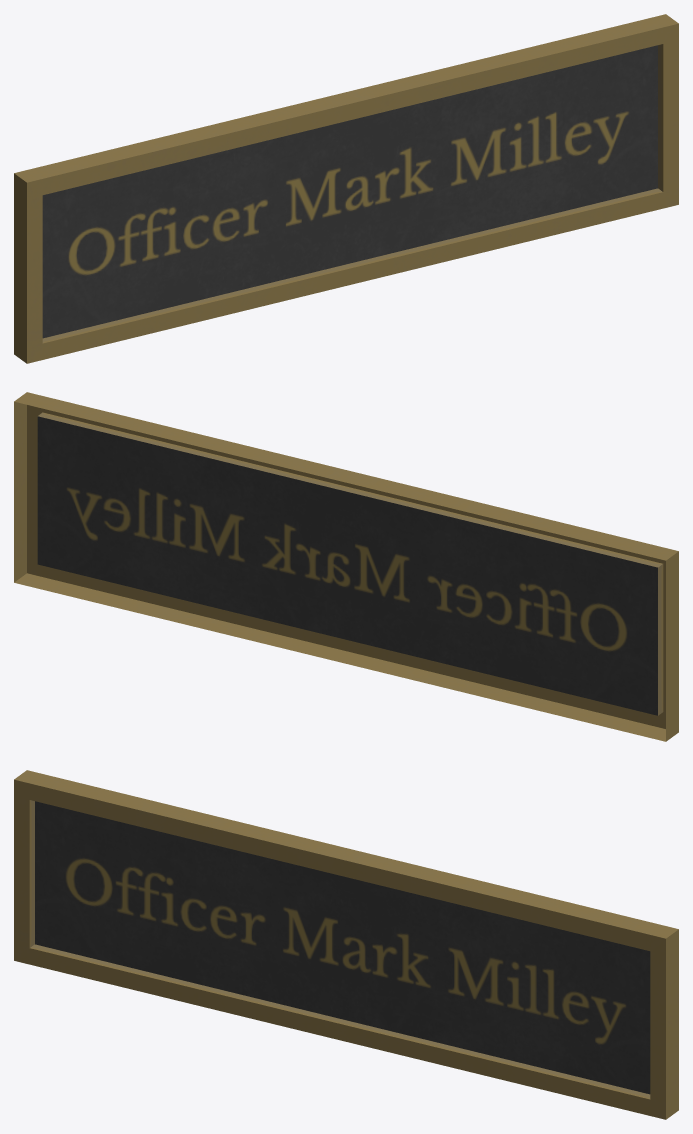
The model's file is NameplateOfficerB.fbx.
The picture shows the model from 3 angles, top to bottom: view 1: azimuth 30°, elevation 25°; view 2: azimuth 150°, elevation 25°; view 3: azimuth 330°, elevation 25°; orthographic projection.
Parts seen in each view (by area): view 1: NameplateOfficerB; view 2: NameplateOfficerB; view 3: NameplateOfficerB.
Boxes of the visible parts, <box> form: NameplateOfficerB: <box>14,14,678,363</box>; NameplateOfficerB: <box>14,392,678,741</box>; NameplateOfficerB: <box>14,770,678,1119</box>.
Bounding box in the file's own units: 29 × 7.7 × 1.
